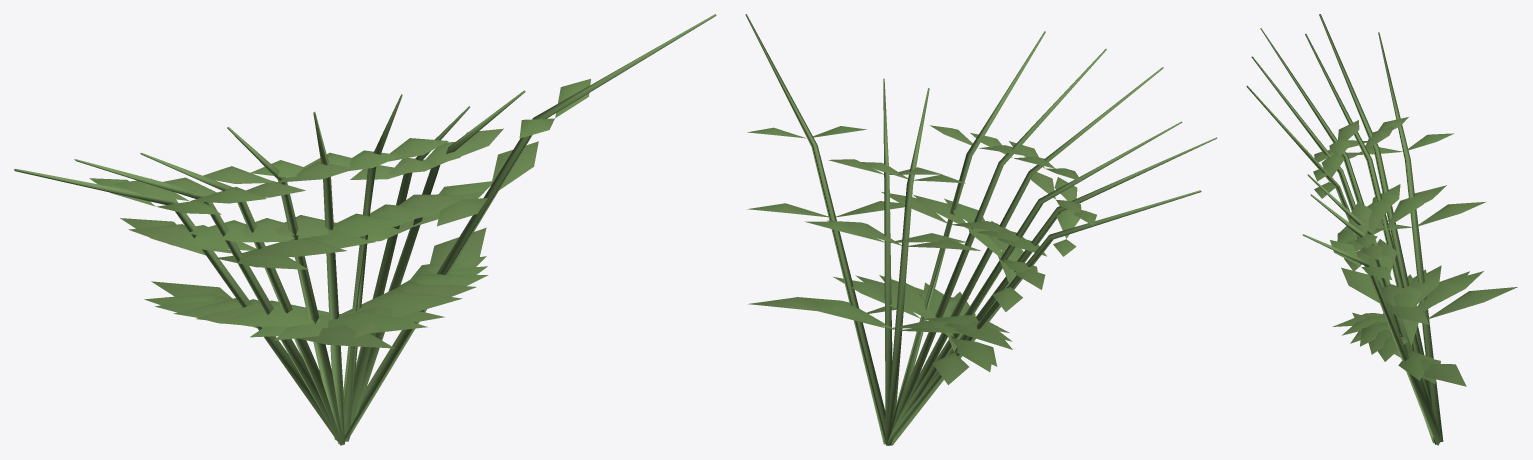
The model's file is foreground-fronds.mobile.glb.
3 renders of one model, left to right at view 1: azimuth 30°, elevation 25°; view 2: azimuth 150°, elevation 25°; view 3: azimuth 270°, elevation 25°, orthographic. The views are drawn at different scales.
Visible parts, largest first — view 1: SA_G10_MESH_62, SA_G10_MESH_60, SA_G10_MESH_61; view 2: SA_G10_MESH_62, SA_G10_MESH_60, SA_G10_MESH_61; view 3: SA_G10_MESH_60, SA_G10_MESH_62, SA_G10_MESH_61.
Part boxes in pixels (left/top/right/bottom): SA_G10_MESH_62: left=173, top=14, right=716, bottom=444; SA_G10_MESH_60: left=14, top=94, right=488, bottom=445; SA_G10_MESH_61: left=74, top=90, right=525, bottom=445; SA_G10_MESH_62: left=745, top=14, right=1163, bottom=445; SA_G10_MESH_60: left=833, top=31, right=1201, bottom=445; SA_G10_MESH_61: left=805, top=49, right=1217, bottom=445; SA_G10_MESH_60: left=1246, top=32, right=1517, bottom=441; SA_G10_MESH_62: left=1260, top=28, right=1466, bottom=445; SA_G10_MESH_61: left=1251, top=14, right=1483, bottom=444.
Bounding box in the file's own units: 1.26 × 0.859 × 0.636.
